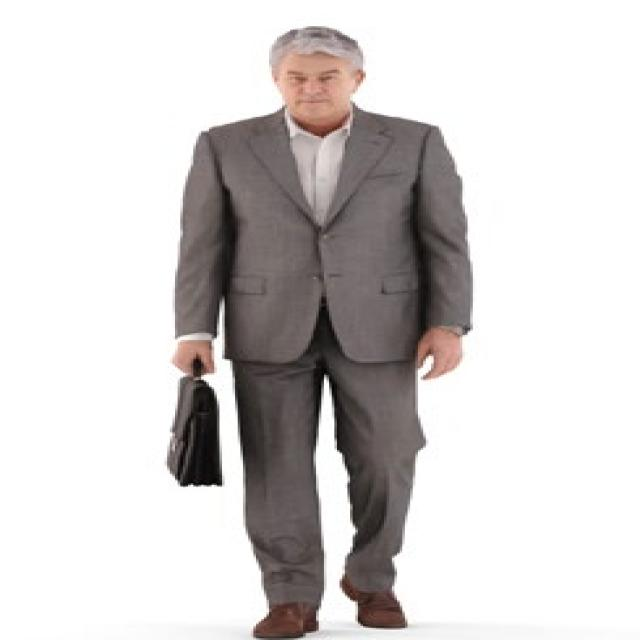standing: (170, 24, 483, 640)
